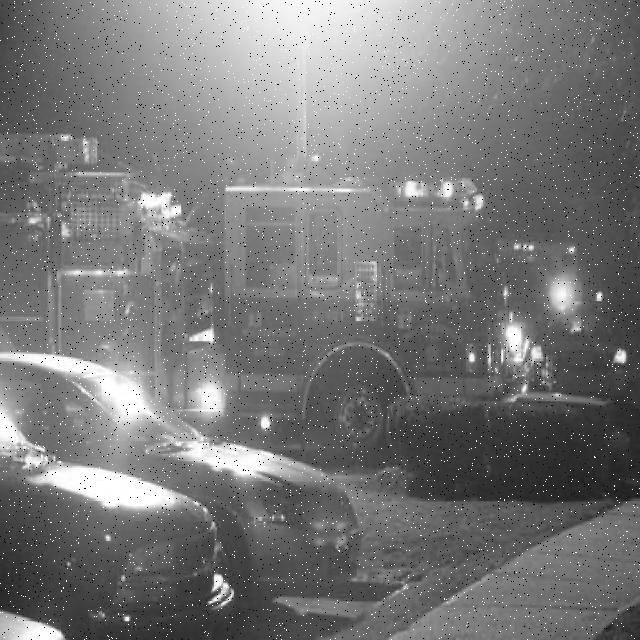Fire Truck: (0, 134, 506, 450)
